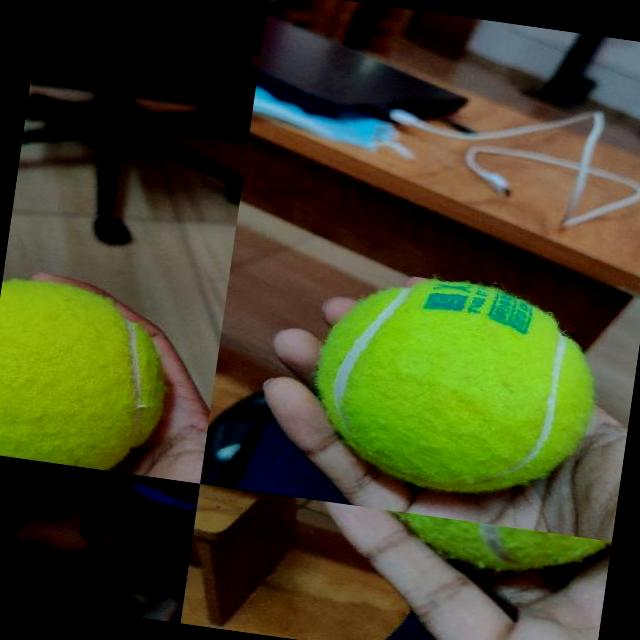Tennis Ball: (304, 266, 606, 508), (0, 275, 178, 476)
